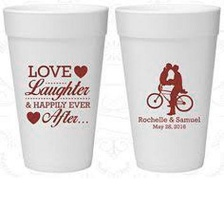paper_cup: (110, 0, 223, 176), (0, 0, 111, 177)
